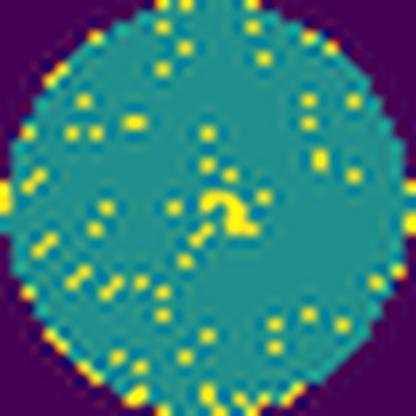Center: (200, 189, 270, 244)
